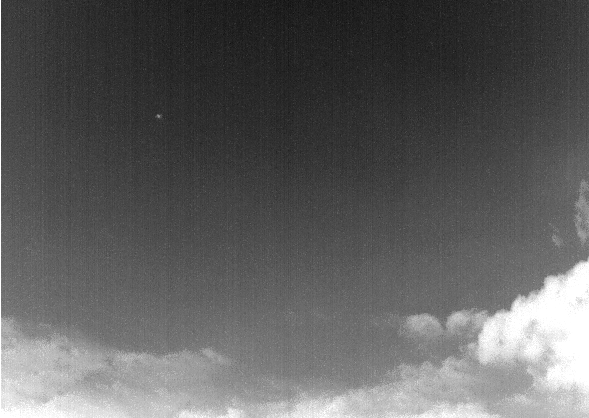dim target: (155, 113, 162, 119)
